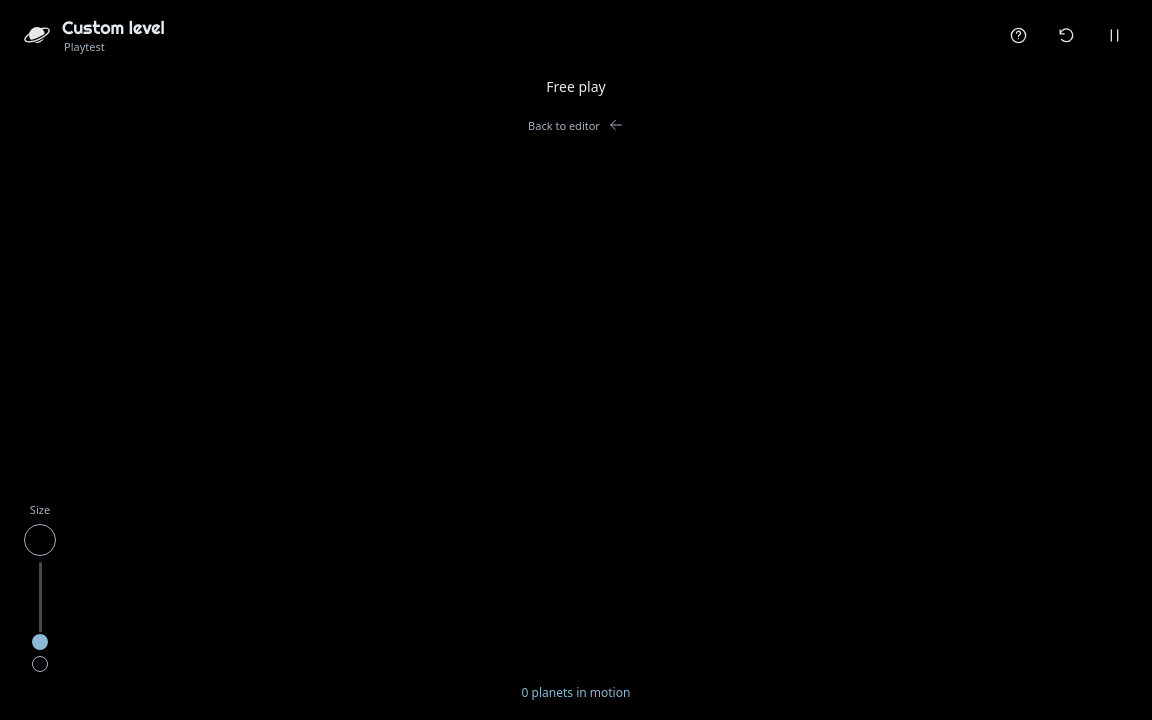
it: Gravity interface › creates a resting projectile from a mouse tap without a pull
The image size is (1152, 720).
Press the mouse on the drawing named "Gravity orbital field" at x=576, y=360, box [0,0,1151,719]
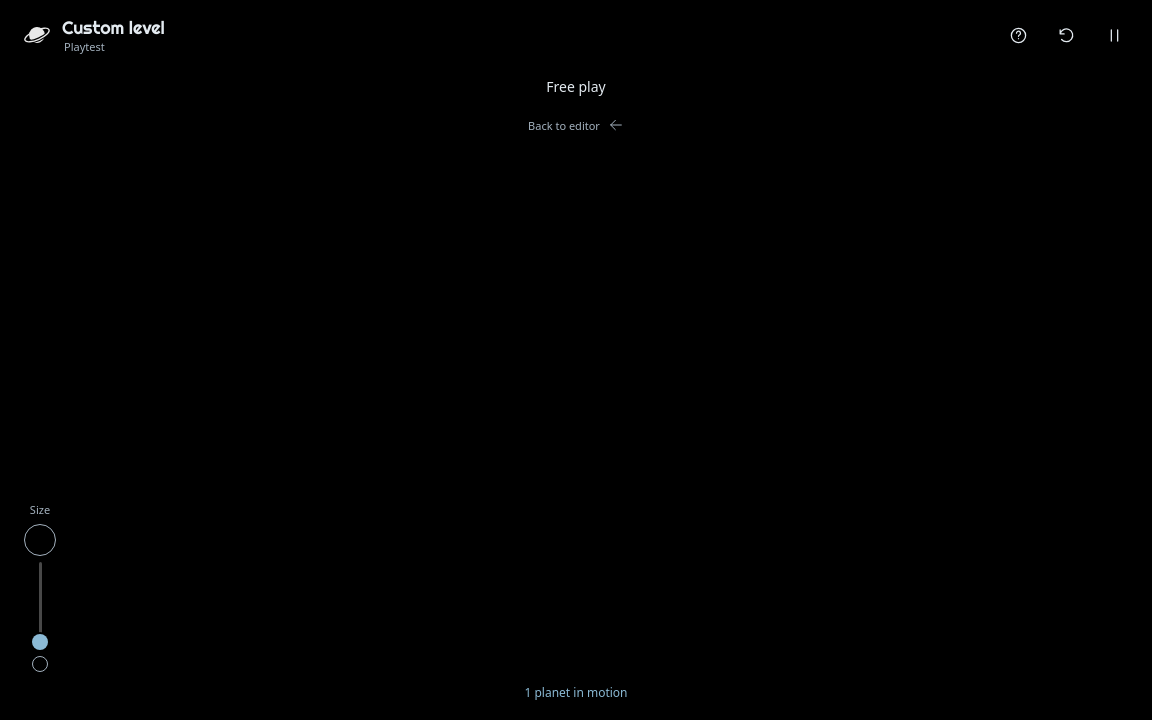
Expected: the text "1 planet in motion" is shown, [524,684,628,701]
